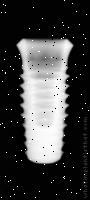Cowellmedi: (16, 39, 74, 165)
